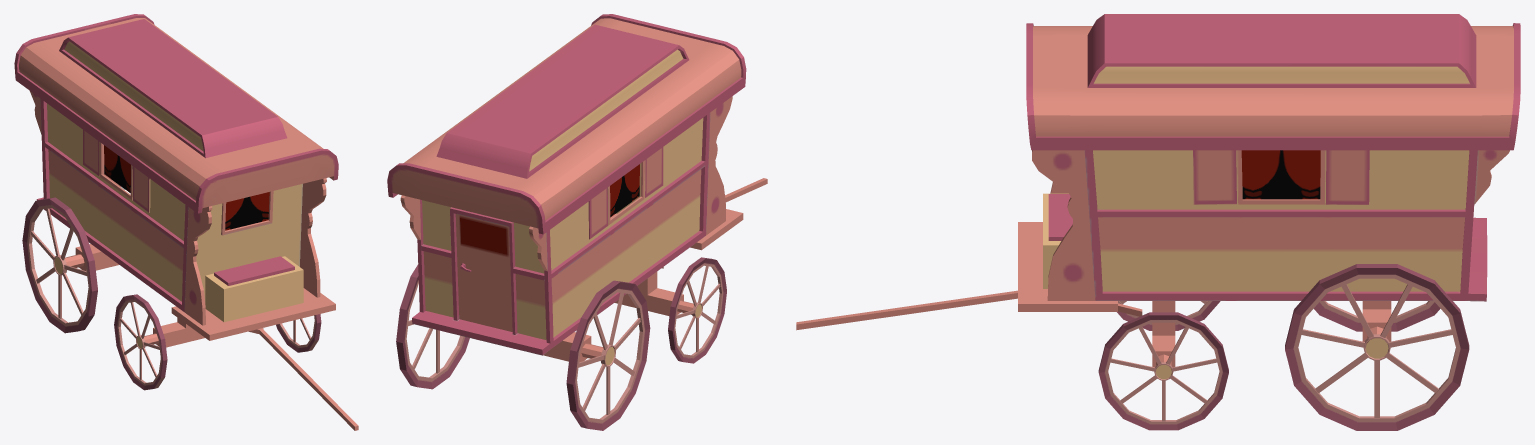
Rendered from Horse_cart.fbx.
3 views of the same model, side by side, from view 1: azimuth 30°, elevation 25°; view 2: azimuth 150°, elevation 25°; view 3: azimuth 270°, elevation 25° (orthographic). The views are drawn at different scales.
Parts seen in each view (by area): view 1: Carro, Rear_wheels, Front_wheels, Windows; view 2: Carro, Rear_wheels, Front_wheels, Windows; view 3: Carro, Rear_wheels, Front_wheels, Windows.
Part boxes in pixels (left/top/right/bottom): Carro: left=14, top=14, right=358, bottom=430; Rear_wheels: left=22, top=197, right=97, bottom=333; Front_wheels: left=114, top=294, right=321, bottom=390; Windows: left=104, top=145, right=269, bottom=230; Carro: left=387, top=14, right=767, bottom=362; Rear_wheels: left=396, top=264, right=650, bottom=430; Front_wheels: left=668, top=257, right=726, bottom=363; Windows: left=610, top=164, right=639, bottom=217; Carro: left=796, top=14, right=1520, bottom=367; Rear_wheels: left=1285, top=264, right=1469, bottom=430; Front_wheels: left=1098, top=301, right=1228, bottom=430; Windows: left=1241, top=150, right=1320, bottom=199.
Size of the model in its own units: 343 by 527 by 1015.
